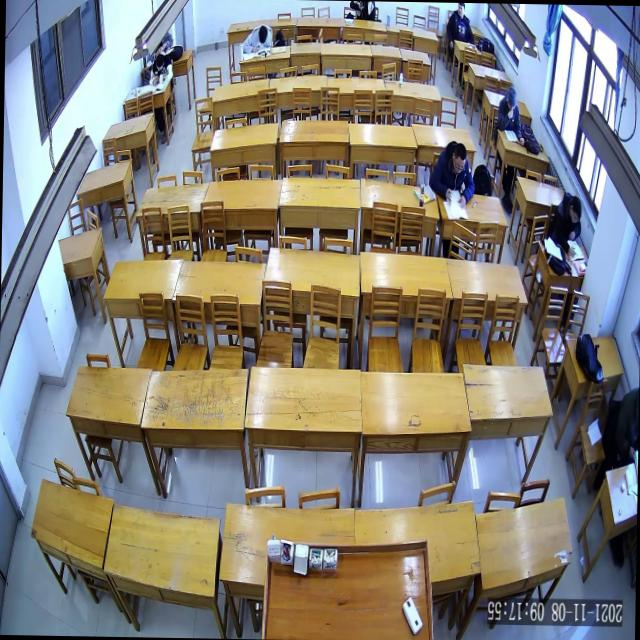bow: (241, 22, 273, 55)
down: (451, 141, 467, 176), (568, 194, 582, 227), (502, 129, 524, 145), (506, 85, 518, 113), (257, 24, 268, 46), (154, 52, 164, 72)
sit: (428, 140, 476, 210), (546, 191, 582, 258), (496, 84, 526, 147), (445, 2, 474, 44), (148, 52, 174, 88)
